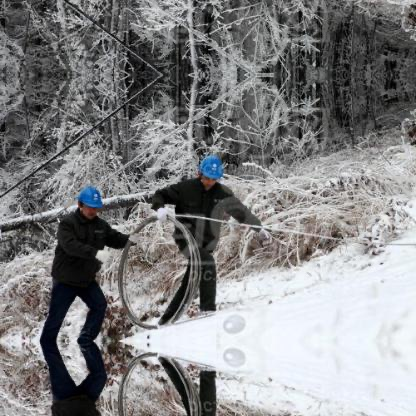Safety Helmet: (75, 183, 104, 223), (196, 152, 226, 190)
